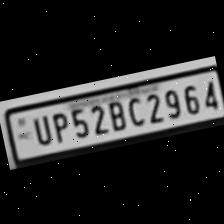2: (83, 99, 109, 136), (140, 88, 164, 124)
4: (196, 74, 220, 110)
5: (64, 103, 90, 140)
6: (176, 79, 201, 115)
9: (158, 82, 182, 119)
B: (102, 96, 127, 131)
C: (120, 90, 144, 127)
P: (46, 106, 71, 142)
U: (27, 111, 53, 146)
